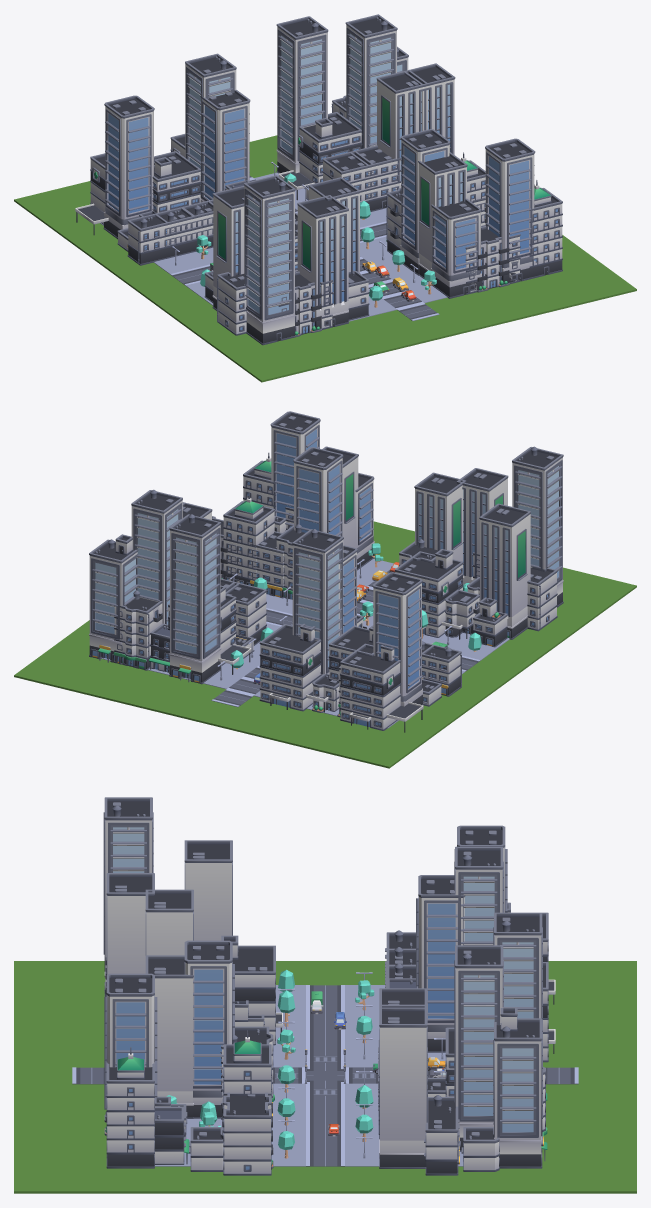
The picture shows the model from 3 angles, top to bottom: view 1: azimuth 30°, elevation 25°; view 2: azimuth 150°, elevation 25°; view 3: azimuth 270°, elevation 25°; orthographic projection. The views are drawn at different scales.
Parts seen in each view (by area): view 1: Ground, Building_-5_-5, Building_+2_+5, Building_-5_+4, Building_+4_-5, Building_-3_-5, Building_+4_+4, Building_-2_+3, Building_+2_-5, Building_+4_+2, Building_-2_+4, Building_+2_-3 (+19 smaller); view 2: Ground, Building_+2_+5, Building_-2_+4, Building_-5_-3, Building_-5_-5, Building_-5_+4, Building_-5_+5, Building_+5_+5, Building_-2_+5, Building_+4_+4, Building_+2_-3, Building_-2_-4 (+21 smaller); view 3: Ground, Building_+4_+4, Building_+5_+2, Building_+5_+5, Building_+2_-3, Building_-2_+3, Building_+2_-4, Building_+5_-5, Building_+4_-5, Building_+2_+5, Building_-5_-3, Building_-2_+4 (+31 smaller).
Boxes of the visible parts, bbox=[...] form: Ground: bbox=[14, 135, 636, 382]; Building_-5_-5: bbox=[243, 175, 295, 345]; Building_+2_+5: bbox=[276, 16, 328, 173]; Building_-5_+4: bbox=[103, 95, 154, 239]; Building_+4_-5: bbox=[485, 138, 535, 284]; Building_-3_-5: bbox=[297, 195, 348, 330]; Building_+4_+4: bbox=[345, 14, 397, 148]; Building_-2_+3: bbox=[200, 90, 250, 201]; Building_+2_-5: bbox=[431, 198, 482, 298]; Building_+4_+2: bbox=[376, 70, 428, 190]; Building_-2_+4: bbox=[185, 53, 236, 202]; Building_+2_-3: bbox=[400, 129, 450, 275]; Ground: bbox=[14, 521, 636, 768]; Building_+2_+5: bbox=[169, 514, 221, 684]; Building_-2_+4: bbox=[292, 529, 343, 674]; Building_-5_-3: bbox=[479, 503, 530, 639]; Building_-5_-5: bbox=[512, 446, 563, 607]; Building_-5_+4: bbox=[372, 572, 423, 706]; Building_-5_+5: bbox=[340, 643, 423, 732]; Building_+5_+5: bbox=[89, 534, 138, 664]; Building_-2_+5: bbox=[259, 623, 328, 712]; Building_+4_+4: bbox=[131, 489, 182, 624]; Building_+2_-3: bbox=[293, 447, 343, 536]; Building_-2_-4: bbox=[414, 472, 466, 573]; Ground: bbox=[14, 961, 636, 1193]; Building_+4_+4: bbox=[454, 945, 503, 1151]; Building_+5_+2: bbox=[379, 1004, 427, 1168]; Building_+5_+5: bbox=[493, 1007, 547, 1168]; Building_+2_-3: bbox=[184, 940, 234, 1118]; Building_-2_+3: bbox=[416, 875, 465, 1052]; Building_+2_-4: bbox=[145, 955, 193, 1118]; Building_+5_-5: bbox=[106, 1047, 154, 1168]; Building_+4_-5: bbox=[104, 973, 157, 1109]; Building_+2_+5: bbox=[493, 912, 547, 1100]; Building_-5_-3: bbox=[184, 840, 232, 940]; Building_-2_+4: bbox=[454, 846, 503, 945].
Bounding box in the file's own units: 112 × 44.26 × 128.
Materials: 46 (33 with a texture image).
